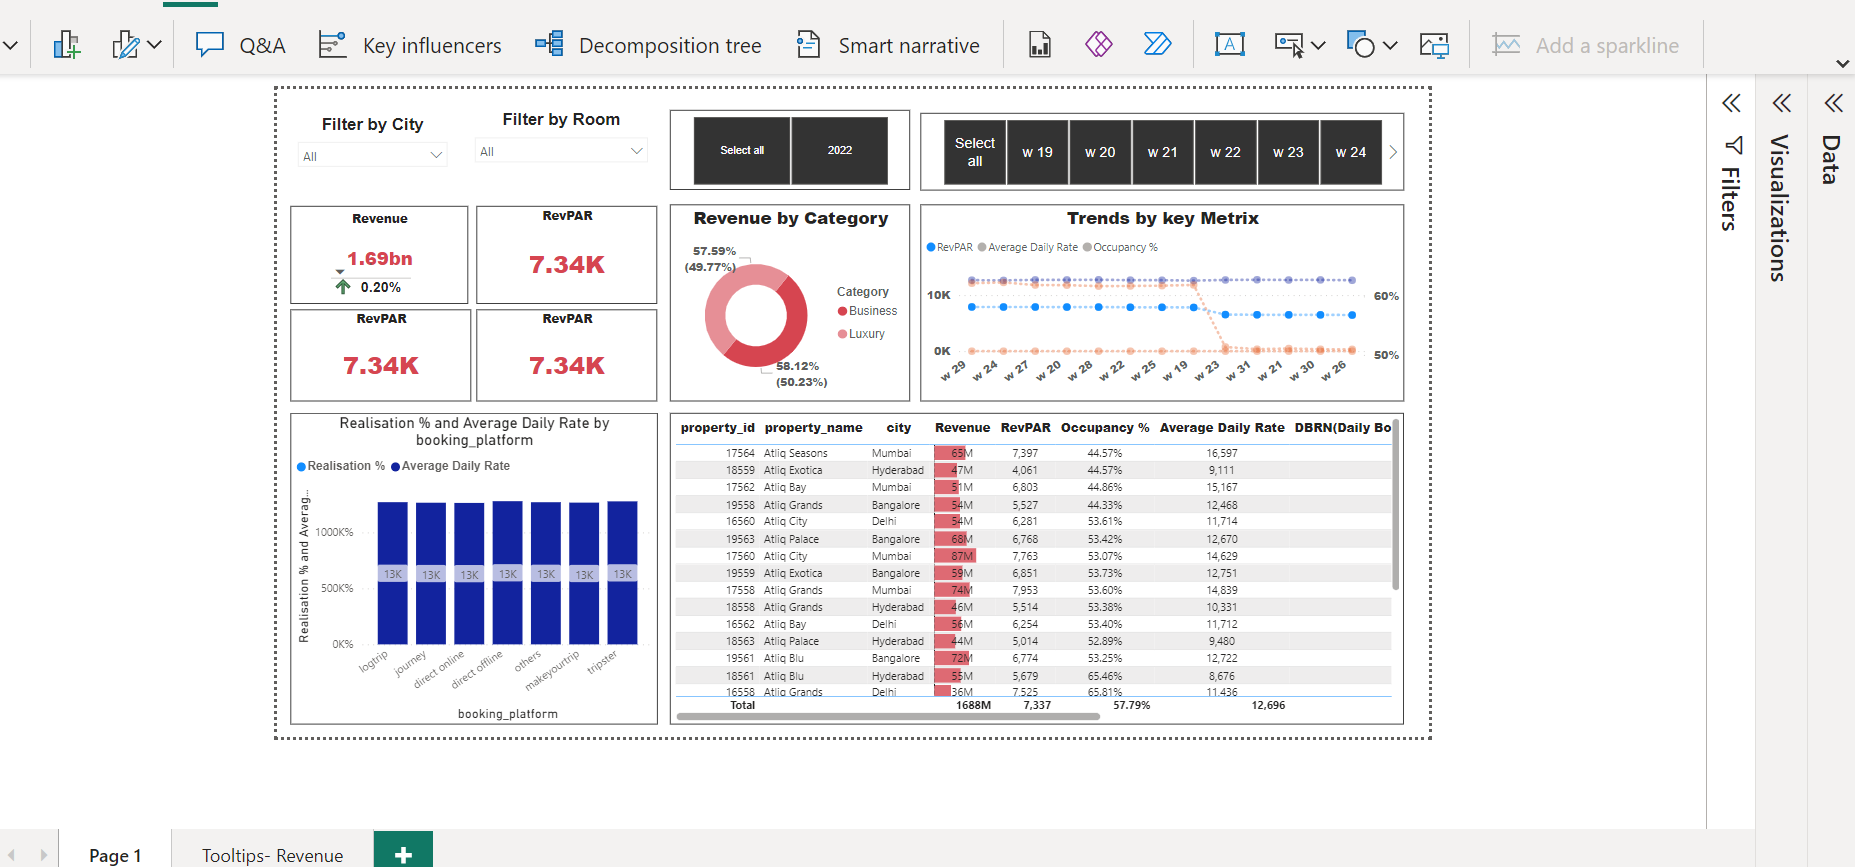

This screenshot's page, from the dashboard's own definition file:
{"tool":"powerbi","page":{"name":"Page 1","canvas":[1280,720],"ordinal":0},"visuals":[{"type":"tableEx","fields":{"Values":["dim_hotels.property_id","dim_hotels.property_name","dim_hotels.city","Key_Measures.Revenue","Key_Measures.RevPAR","Key_Measures.Occupancy %","Key_Measures.Average Daily Rate","Key_Measures.DBRN(Daily Booked Room Nights)","Key_Measures.DURN","Key_Measures.Realisation %","Key_Measures.calcellation %","Key_Measures.Average Rating"]},"box":[436.9,360.8,815.5,346.2],"z":0},{"type":"slicer","title":"Filter by Room","fields":{"Values":["dim_rooms.room_class"]},"box":[210.3,22.7,212,89],"z":1000},{"type":"slicer","title":"Filter by week","fields":{"Values":["dim_date.Week_number"]},"box":[715.1,25.9,537.2,85.8],"z":2000},{"type":"slicer","title":"Filter by City","fields":{"Values":["dim_hotels.city"]},"box":[12.9,27.5,186.1,84.1],"z":3000},{"type":"cardVisual","title":"Revenue","fields":{"Data":["Key_Measures.Revenue"]},"box":[14.6,129.4,197.4,108.4],"z":4000},{"type":"tableEx","fields":{"Values":["Key_Measures.Revenue WoW change %"]},"box":[38.8,173.1,148.9,98.7],"z":5000},{"type":"donutChart","title":"Revenue by Category","fields":{"Category":["dim_hotels.category"],"Y":["Key_Measures.Occupancy %"]},"box":[436.9,127.8,267,218.4],"z":6000},{"type":"lineChart","title":"Trends by key Metrix","fields":{"Category":["dim_date.Week_number"],"Y":["Key_Measures.RevPAR","Key_Measures.Average Daily Rate","Key_Measures.Occupancy %"],"Y2":["Key_Measures.Occupancy %"]},"box":[715.1,127.8,537.2,218.4],"z":7000},{"type":"slicer","title":"Filter by Status","fields":{"Values":["dim_date.date.Variation.Date Hierarchy.Year"]},"box":[436.9,22.7,267,89],"z":8000},{"type":"cardVisual","title":"RevPAR","fields":{"Data":["Key_Measures.RevPAR"]},"box":[221.7,129.4,200.6,108.4],"z":9000},{"type":"cardVisual","title":"RevPAR","fields":{"Data":["Key_Measures.RevPAR"]},"box":[14.6,244.3,200.6,101.9],"z":10000},{"type":"cardVisual","title":"RevPAR","fields":{"Data":["Key_Measures.RevPAR"]},"box":[221.7,244.3,200.6,101.9],"z":11000},{"type":"lineStackedColumnComboChart","fields":{"Category":["fact_bookings.booking_platform"],"Y":["Key_Measures.Realisation %","Key_Measures.Average Daily Rate"]},"box":[14.6,360.8,407.7,346.2],"z":12000}]}

Visuals, with their boxes on the page's 1280x720 design canvas (x1, y1, x2, y2). These are canvas units, not pixel positions in the 1855x867 screenshot, which may show the page scaled, cropped or inside an application window:
tableEx - dim_hotels.property_id x dim_hotels.property_name: region(437, 361, 1252, 707)
"Filter by Room" slicer: region(210, 23, 422, 112)
"Filter by week" slicer: region(715, 26, 1252, 112)
"Filter by City" slicer: region(13, 28, 199, 112)
"Revenue" cardVisual: region(15, 129, 212, 238)
tableEx - Key_Measures.Revenue WoW change %: region(39, 173, 188, 272)
"Revenue by Category" donutChart: region(437, 128, 704, 346)
"Trends by key Metrix" lineChart: region(715, 128, 1252, 346)
"Filter by Status" slicer: region(437, 23, 704, 112)
"RevPAR" cardVisual: region(222, 129, 422, 238)
"RevPAR" cardVisual: region(15, 244, 215, 346)
"RevPAR" cardVisual: region(222, 244, 422, 346)
lineStackedColumnComboChart - fact_bookings.booking_platform x Key_Measures.Realisation %: region(15, 361, 422, 707)
